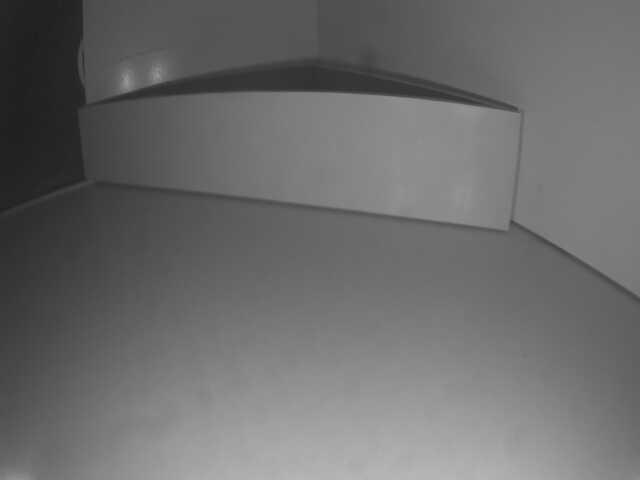Red: (78, 91, 522, 232)
